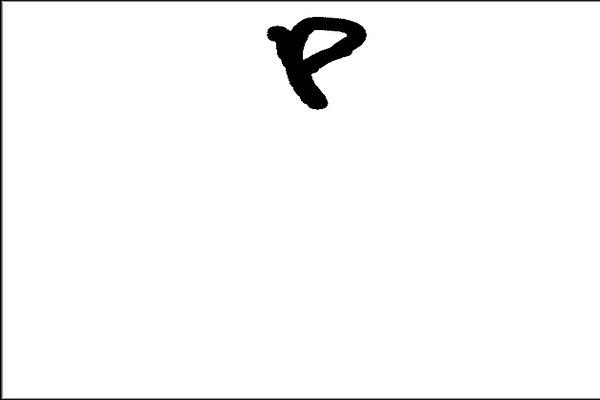P: (265, 10, 371, 125)
